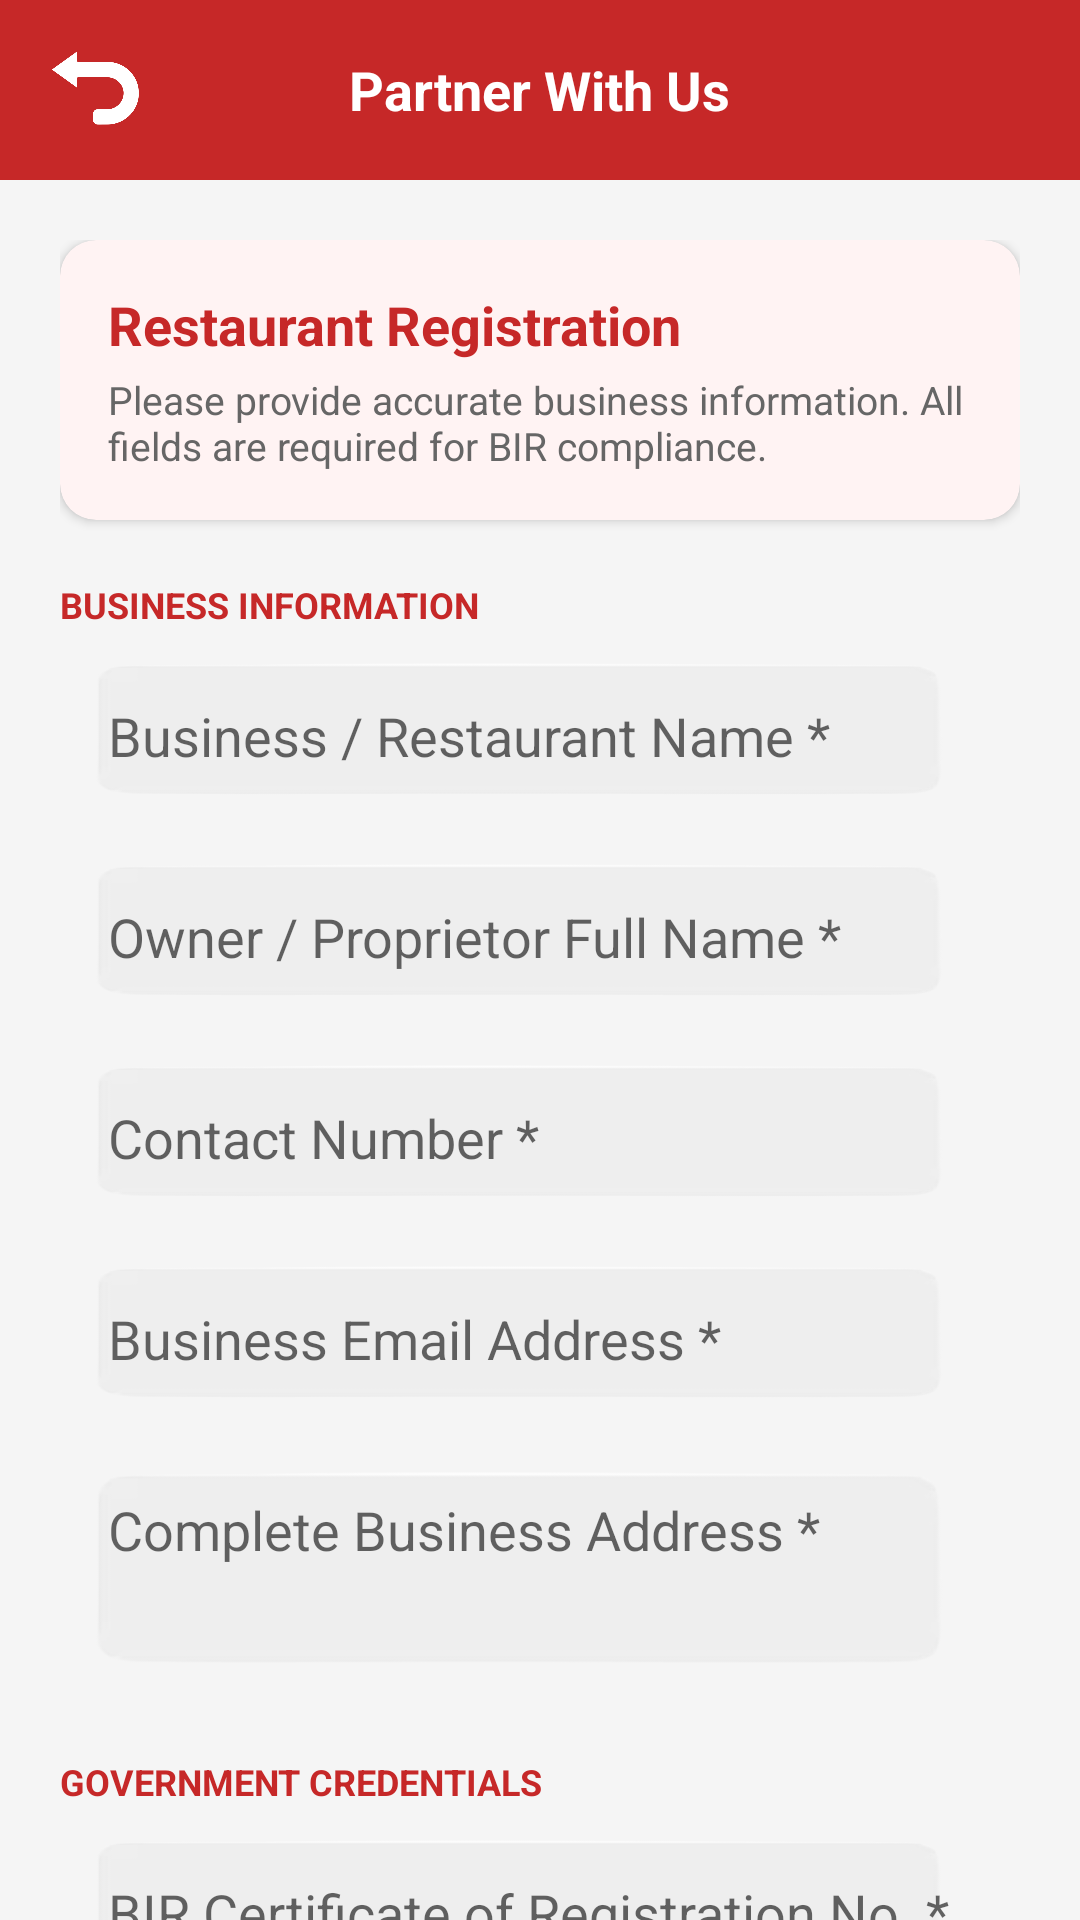

Point at icon controls on the screen. Image size 1080*1920, points as point (x, y).
back: point (95, 88)
